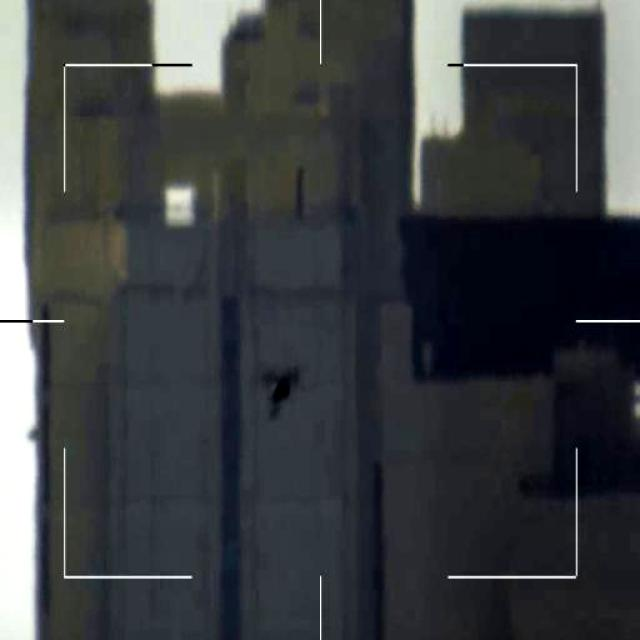bird: (262, 365, 311, 421)
